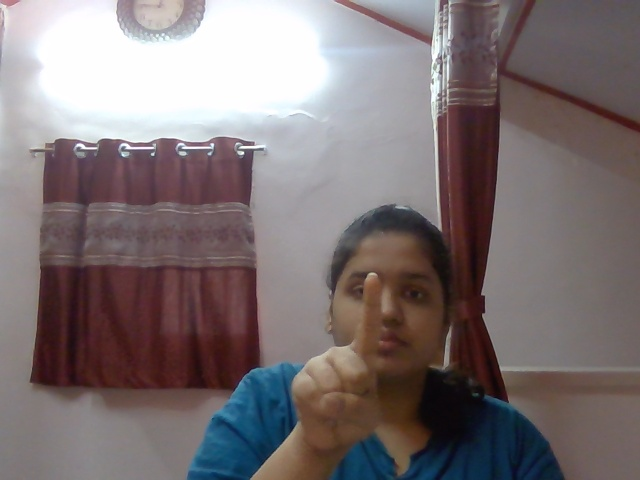z: (285, 266, 397, 459)
